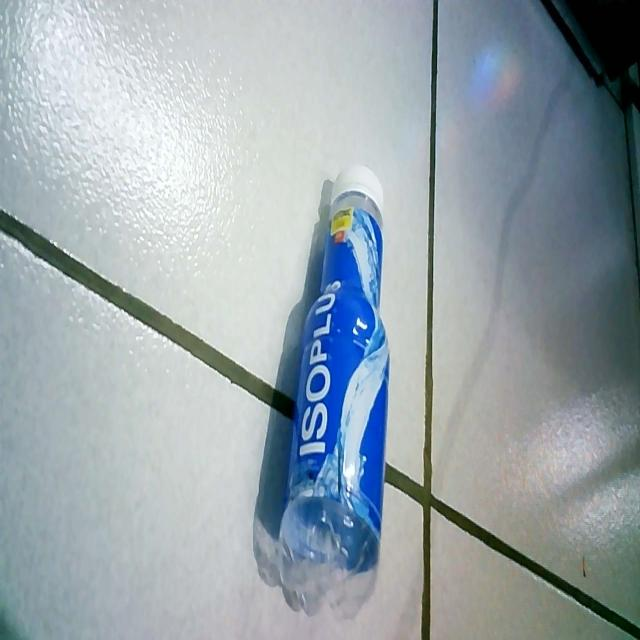botol: (270, 152, 397, 631)
